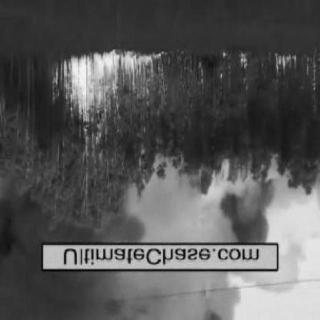Smoke: (5, 276, 229, 318)
